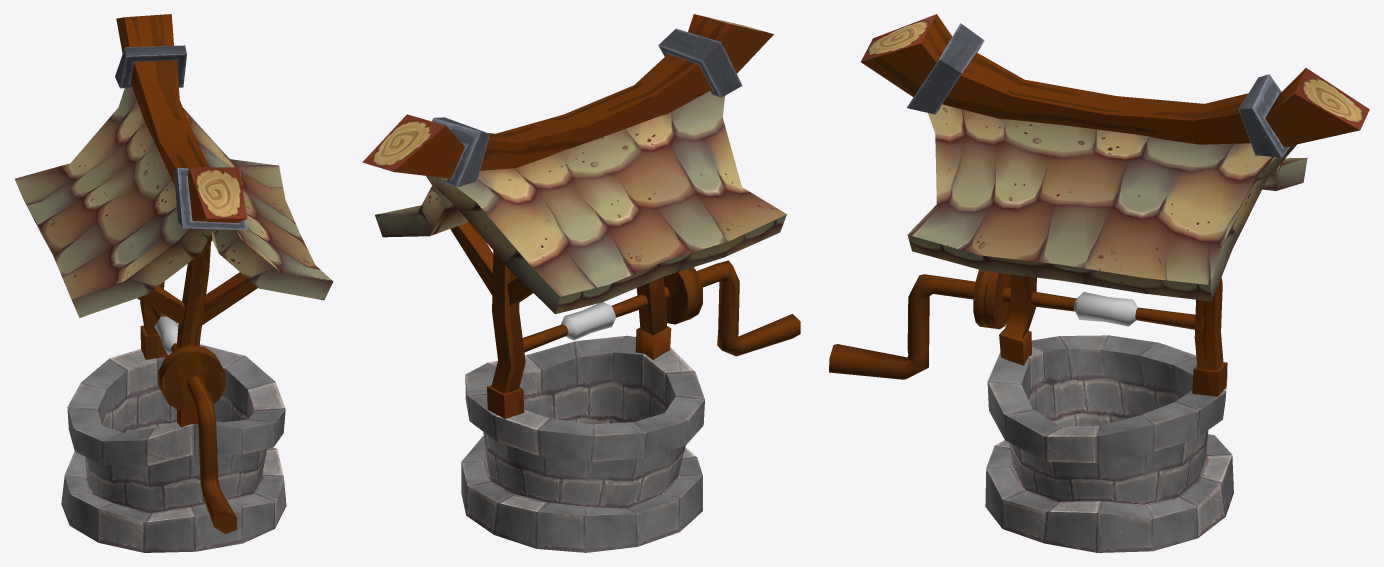
Rendered from Well.fbx.
3 views of the same model, side by side, from view 1: azimuth 30°, elevation 25°; view 2: azimuth 150°, elevation 25°; view 3: azimuth 270°, elevation 25° (orthographic). The views are drawn at different scales.
Visible parts, largest first — view 1: BP_PROP_well, SM_PROP_well_handle; view 2: BP_PROP_well, SM_PROP_well_handle; view 3: BP_PROP_well, SM_PROP_well_handle.
Boxes of the visible parts, left/top/right/bottom form: BP_PROP_well: left=14, top=14, right=333, bottom=552; SM_PROP_well_handle: left=151, top=307, right=237, bottom=534; BP_PROP_well: left=362, top=14, right=786, bottom=552; SM_PROP_well_handle: left=522, top=260, right=800, bottom=356; BP_PROP_well: left=861, top=14, right=1369, bottom=552; SM_PROP_well_handle: left=829, top=269, right=1195, bottom=379.
Size of the model in its own units: 321 by 424 by 457.
